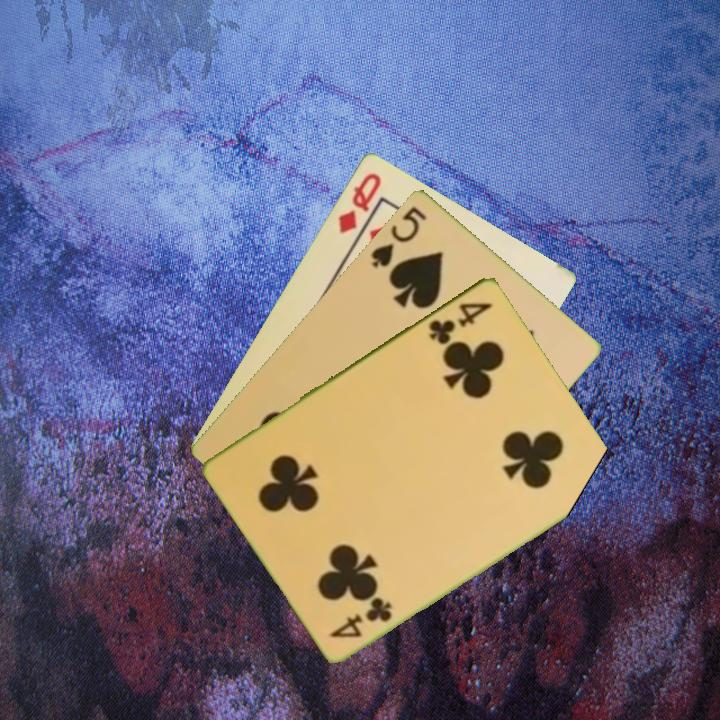4c: (425, 298, 495, 347), (326, 594, 395, 641)
5s: (367, 201, 430, 270)
Qd: (334, 168, 384, 236)
